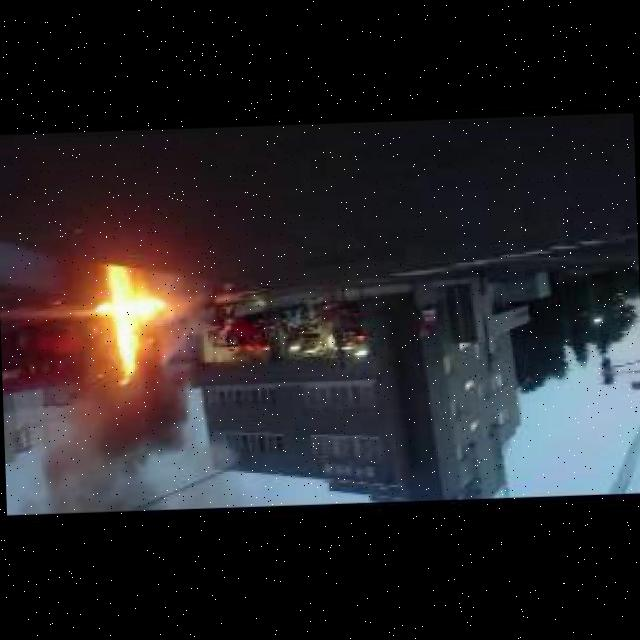fire: (37, 370, 204, 514), (96, 301, 167, 387)
